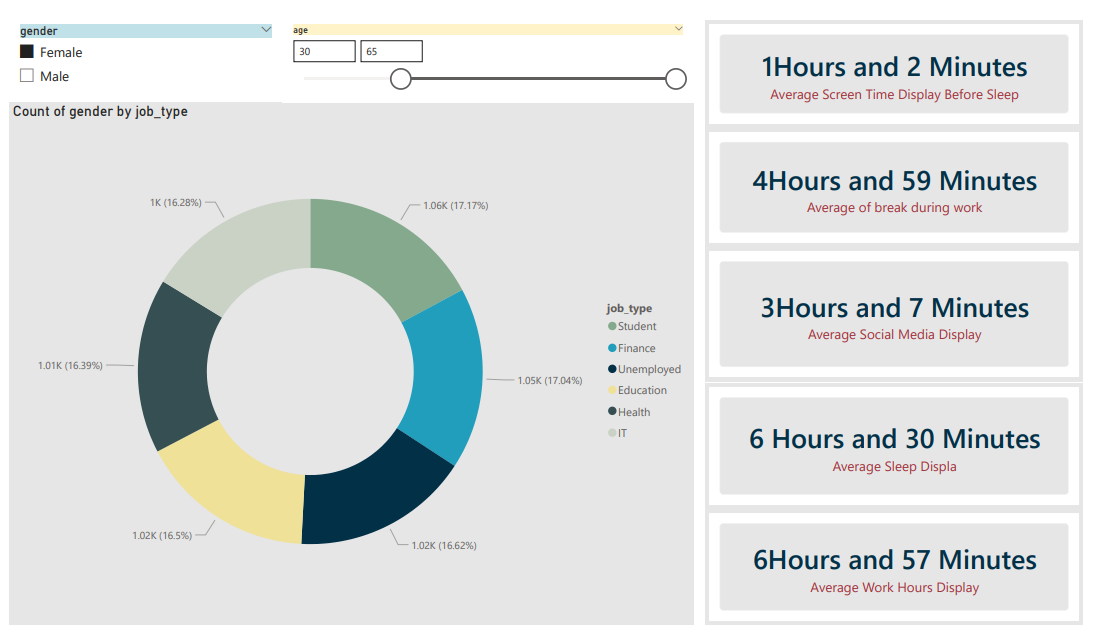

Layout of this report page (visuals, bound fields, positions):
{"tool":"powerbi","page":{"name":"Card visuals","canvas":[1280,720],"ordinal":3},"visuals":[{"type":"cardVisual","fields":{"Data":["social_media_vs_productivity.Average of break during  work"]},"box":[786,132,494,132],"z":0},{"type":"cardVisual","fields":{"Data":["social_media_vs_productivity.Average Sleep Displa"]},"box":[786,382,494,132],"z":1000},{"type":"cardVisual","fields":{"Data":["social_media_vs_productivity.Average Screen Time Display Before Sleep"]},"box":[786,0,494,132],"z":2000},{"type":"cardVisual","fields":{"Data":["social_media_vs_productivity.Average Social Media Display"]},"box":[786,250,494,132],"z":3000},{"type":"cardVisual","fields":{"Data":["social_media_vs_productivity.Average Work Hours Display"]},"box":[786,514,494,132],"z":4000},{"type":"slicer","fields":{"Values":["social_media_vs_productivity.gender"]},"box":[0,100,240,96.7],"z":5000},{"type":"donutChart","fields":{"Category":["social_media_vs_productivity.job_type"],"Y":["CountNonNull(social_media_vs_productivity.gender)"]},"box":[0,265,785,455],"z":6000},{"type":"slicer","fields":{"Values":["social_media_vs_productivity.age"]},"box":[295,82.5,490,97.5],"z":7000}]}

Visuals, with their boxes in screenshot pixels (x1, y1, x2, y2), scaled from the page's 1280x720 canvas onto the 1098x631 screenshot:
cardVisual - social_media_vs_productivity.Average of break during  work: (674,116,1097,231)
cardVisual - social_media_vs_productivity.Average Sleep Displa: (674,335,1097,450)
cardVisual - social_media_vs_productivity.Average Screen Time Display Before Sleep: (674,0,1097,116)
cardVisual - social_media_vs_productivity.Average Social Media Display: (674,219,1097,335)
cardVisual - social_media_vs_productivity.Average Work Hours Display: (674,450,1097,566)
slicer - social_media_vs_productivity.gender: (0,88,206,172)
donutChart - social_media_vs_productivity.job_type x CountNonNull(social_media_vs_productivity.gender): (0,232,673,630)
slicer - social_media_vs_productivity.age: (253,72,673,158)
